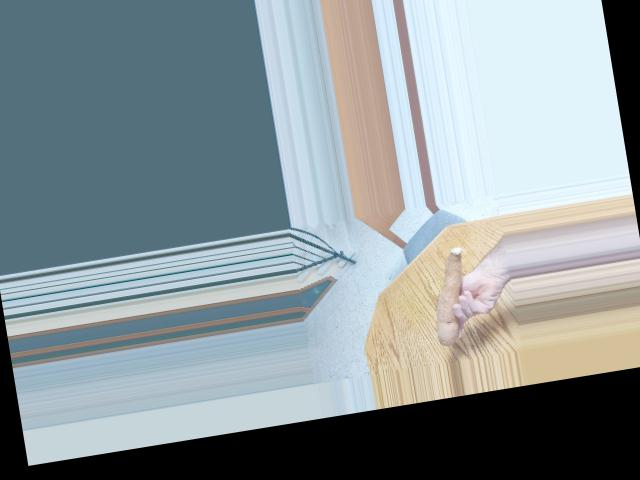sweet_potato: (420, 244, 477, 345)
